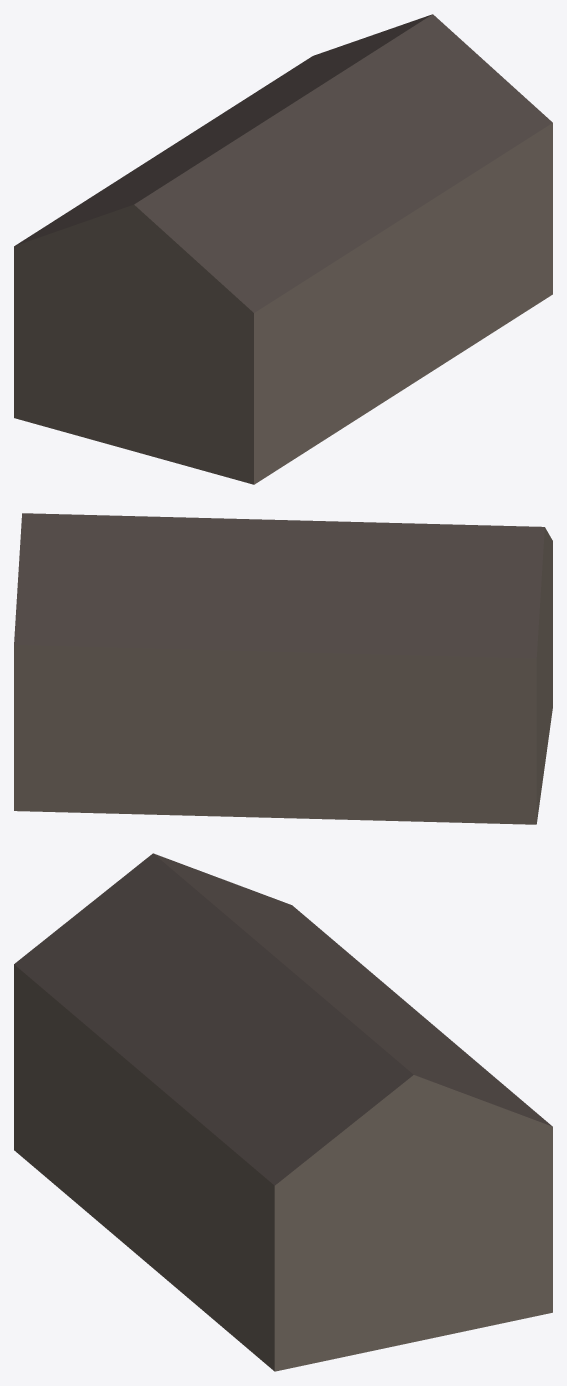
The picture shows the model from 3 angles, top to bottom: view 1: azimuth 30°, elevation 25°; view 2: azimuth 150°, elevation 25°; view 3: azimuth 270°, elevation 25°; orthographic projection. The views are drawn at different scales.
Parts seen in each view (by area): view 1: HP-w859457475; view 2: HP-w859457475; view 3: HP-w859457475.
Boxes of the visible parts, bbox=[...] form: HP-w859457475: bbox=[14, 14, 552, 484]; HP-w859457475: bbox=[14, 513, 552, 824]; HP-w859457475: bbox=[14, 853, 552, 1371].
Size of the model in its own units: 29.13 by 12.94 by 23.65.
